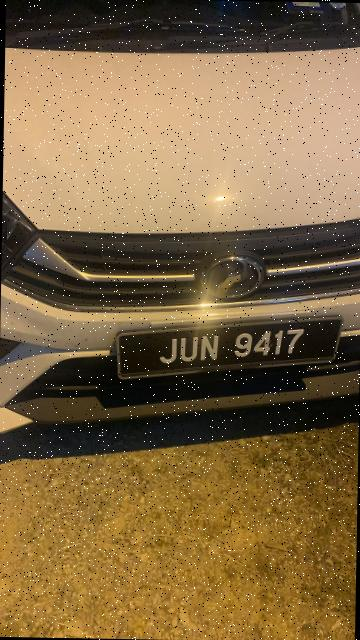License_Plate: (137, 325, 345, 372)
car: (1, 1, 360, 480)
